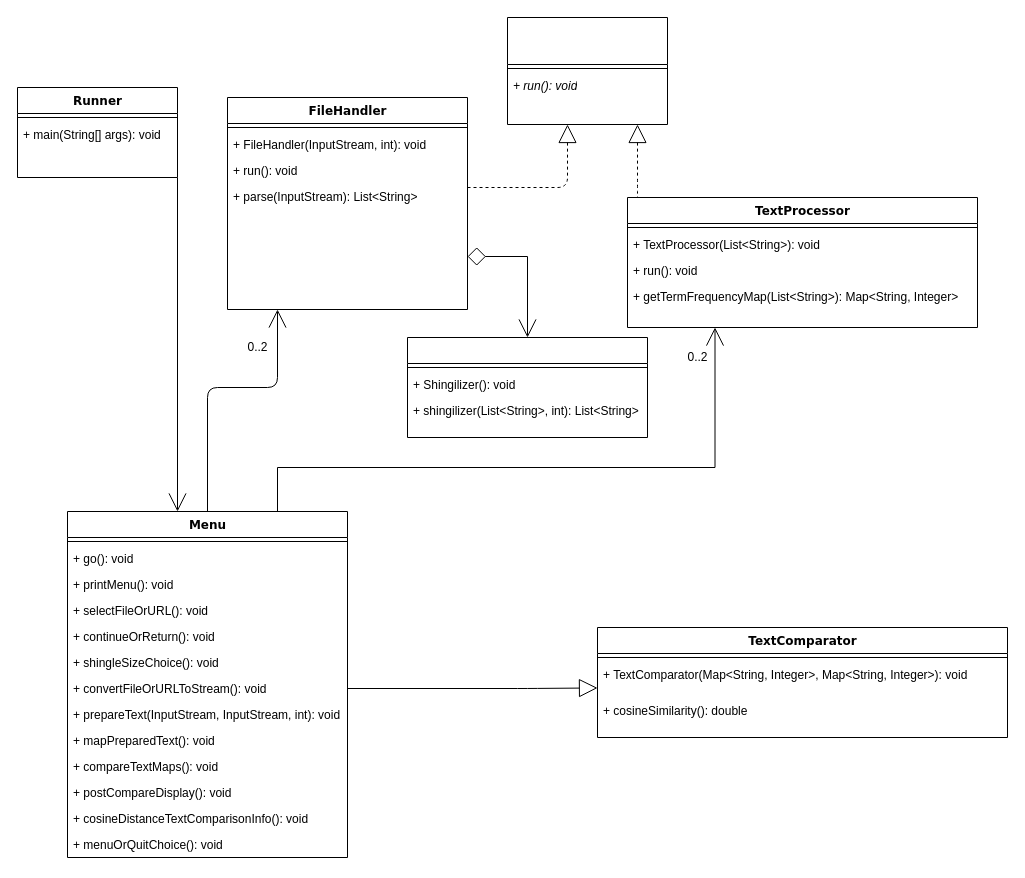
The diagram is 1025 pixels wide and 878 high, and some of its shapes have lost their labels. The box of each missing label's shape, as (x1, y1, x2, y2) in pixels:
<<interface>> Runnable: (506, 16, 668, 124)
Shinglizer: (406, 336, 648, 438)
